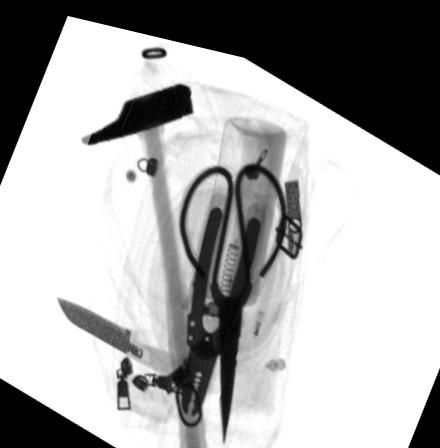Hammer: (79, 73, 209, 448)
Knife: (56, 292, 201, 381)
Pliers: (180, 195, 262, 406)
Scissors: (178, 146, 290, 436)
